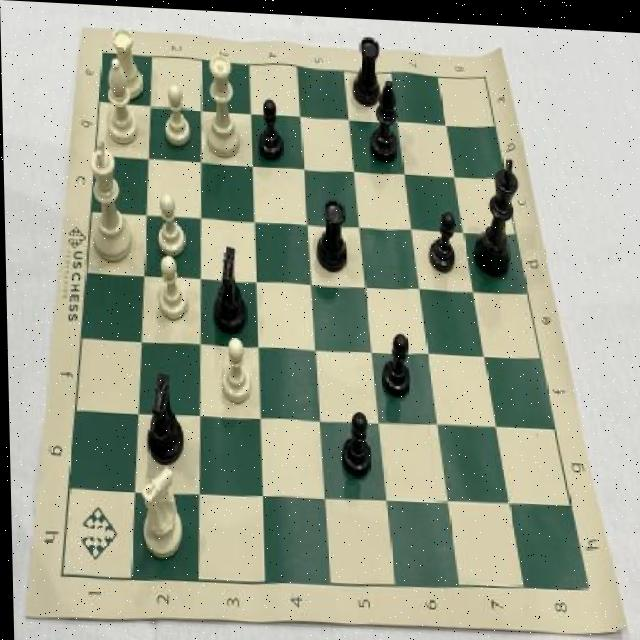bishop: (366, 73, 406, 166)
black-bishop: (467, 145, 524, 275)
black-king: (138, 361, 189, 468), (207, 235, 252, 342)
black-knight: (337, 399, 377, 481), (374, 320, 413, 401), (252, 92, 286, 166), (426, 199, 458, 274)
black-queen: (311, 188, 354, 277), (348, 25, 386, 108)
black-rook: (99, 55, 141, 145)
white-bishop: (84, 133, 135, 266)
white-king: (131, 459, 189, 567)
white-knight: (158, 74, 198, 152), (152, 249, 191, 326), (215, 332, 255, 406), (151, 186, 188, 260)
white-pawn: (199, 46, 248, 164)
white-queen: (106, 21, 149, 104)
